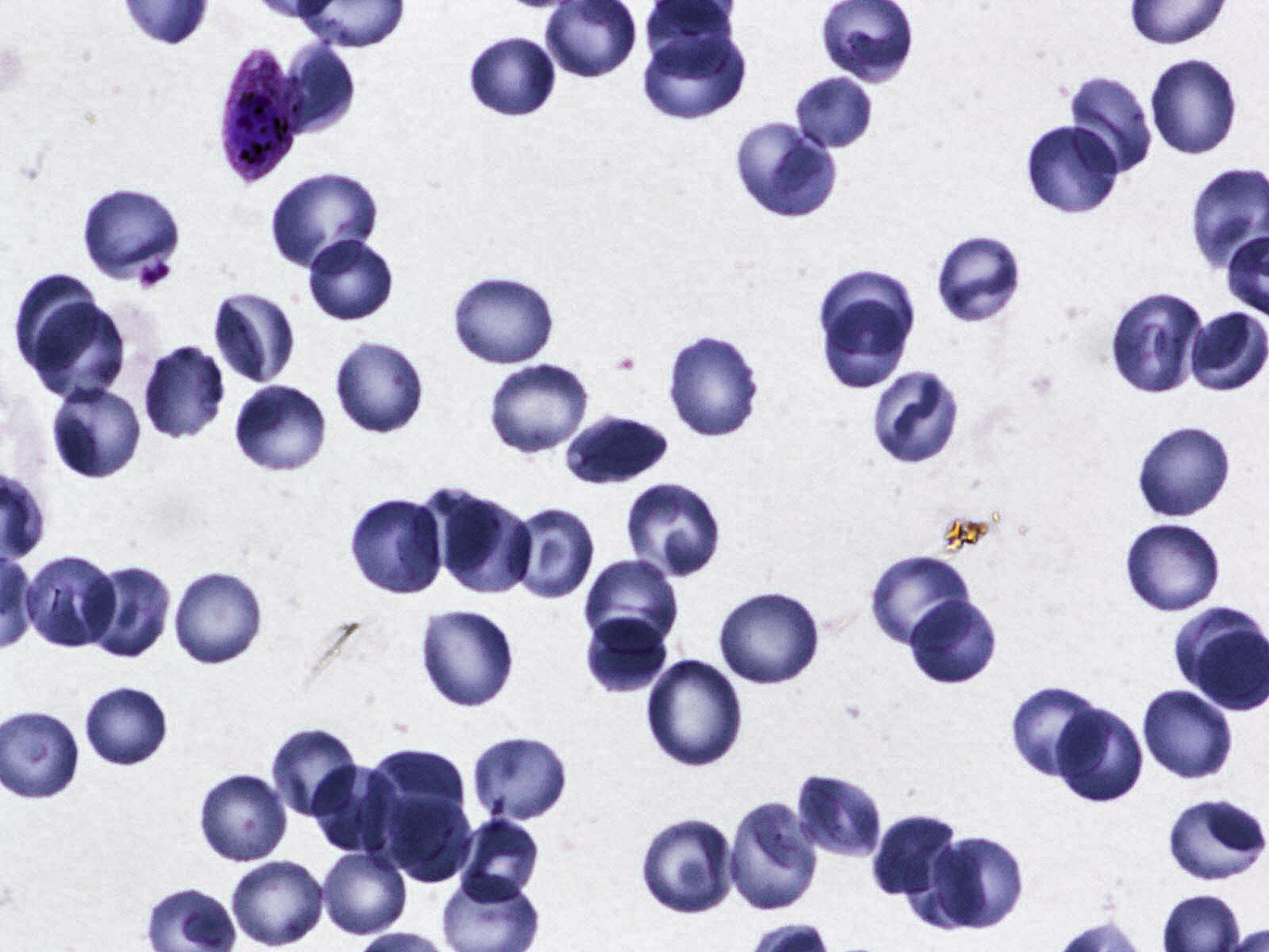Infected: (221, 44, 299, 185)
Uninfected: (644, 657, 744, 769), (271, 174, 378, 278), (714, 589, 822, 690), (418, 603, 516, 711), (869, 554, 973, 651), (665, 335, 759, 442), (34, 298, 126, 407), (735, 121, 838, 218), (640, 815, 738, 916), (1122, 520, 1224, 617), (346, 496, 442, 599), (641, 33, 752, 122), (1112, 290, 1203, 398), (21, 552, 117, 654), (451, 275, 557, 367), (729, 804, 819, 912), (82, 186, 180, 284), (366, 750, 464, 846), (1136, 424, 1233, 520), (13, 272, 100, 379), (441, 495, 534, 595), (232, 384, 332, 476), (82, 564, 174, 664), (1139, 687, 1236, 781), (584, 559, 678, 656), (469, 734, 569, 825), (489, 366, 591, 455), (627, 480, 718, 578), (197, 769, 289, 864), (934, 833, 1025, 929), (1012, 685, 1105, 778), (334, 340, 425, 435), (174, 570, 263, 667), (312, 763, 403, 857), (873, 366, 960, 464), (1168, 797, 1267, 882), (52, 385, 142, 478), (389, 789, 476, 885), (1066, 79, 1152, 176), (209, 289, 296, 384), (320, 844, 410, 935), (910, 599, 1004, 686), (820, 270, 915, 356), (1150, 59, 1234, 156), (563, 413, 673, 486), (1026, 125, 1119, 211), (141, 344, 224, 440), (270, 724, 356, 816), (1177, 608, 1263, 700), (1058, 709, 1143, 802), (233, 861, 324, 947), (414, 487, 506, 572), (504, 511, 592, 599), (822, 298, 907, 387), (934, 236, 1019, 324), (797, 774, 883, 859), (902, 847, 989, 931), (456, 819, 539, 907), (311, 236, 393, 323), (469, 33, 553, 117), (84, 685, 167, 769), (875, 813, 957, 897), (1190, 306, 1268, 393), (285, 43, 357, 137), (792, 73, 876, 152), (583, 615, 668, 693)
